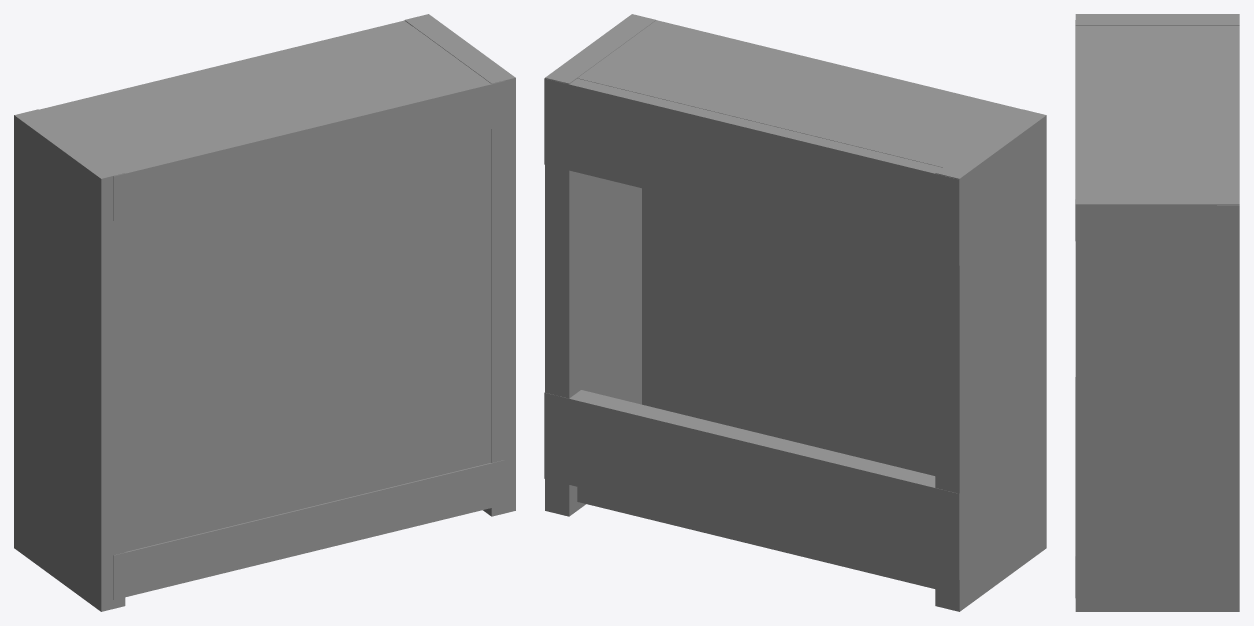
Rendered from PinStopModel.obj.
The picture shows the model from 3 angles, left to right: view 1: azimuth 30°, elevation 25°; view 2: azimuth 150°, elevation 25°; view 3: azimuth 270°, elevation 25°; orthographic projection. The views are drawn at different scales.
Parts seen in each view (by area): view 1: pCube8; view 2: pCube8; view 3: pCube8.
Boxes of the visible parts, box(x1,y1,x2,y2) form: pCube8: box(14, 14, 515, 611); pCube8: box(544, 14, 1046, 611); pCube8: box(1075, 14, 1239, 611).
Bounding box in the file's own units: 83.9 × 83.63 × 30.62.
Materials: 1 (1 with a texture image).
